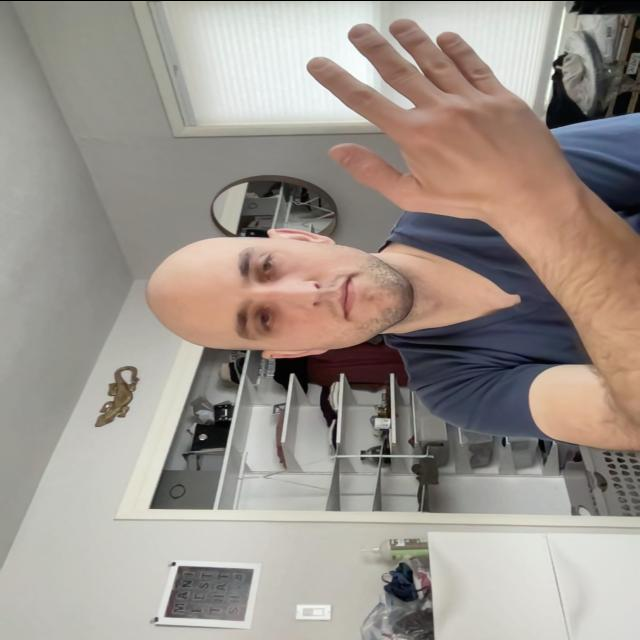Paper: (294, 16, 578, 220)
